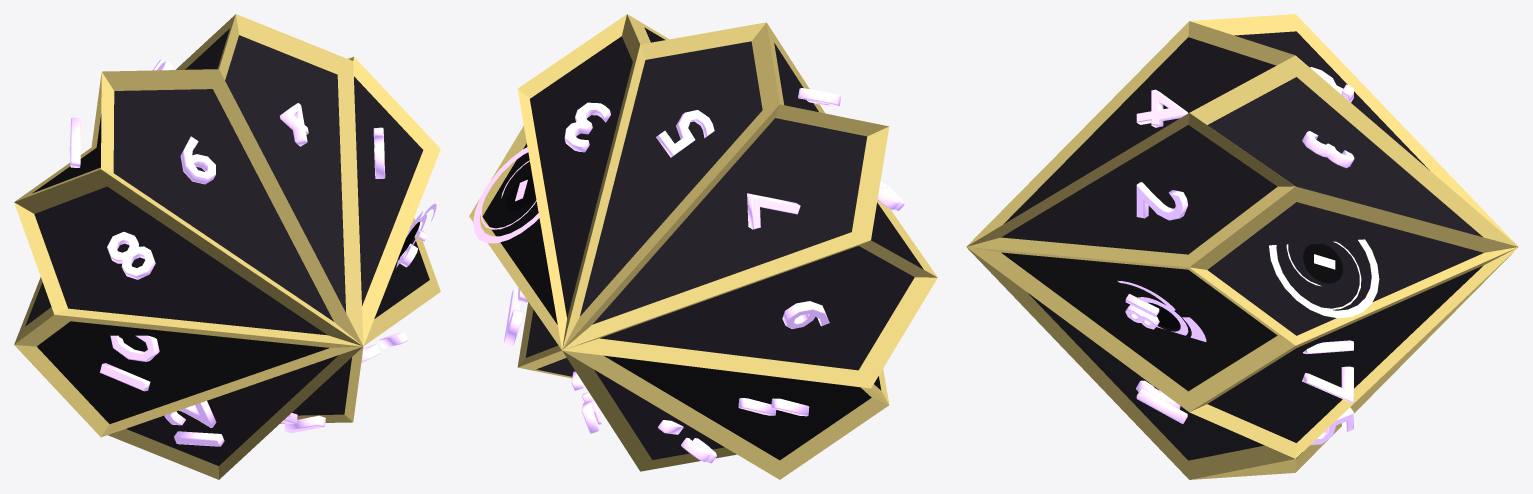
File: d18_black_hole_gold.glb
3 renders of one model, left to right at view 1: azimuth 30°, elevation 25°; view 2: azimuth 150°, elevation 25°; view 3: azimuth 270°, elevation 25°, orthographic. The views are drawn at different scales.
Parts seen in each view (by area): view 1: D18_BlackHole_Gold; view 2: D18_BlackHole_Gold; view 3: D18_BlackHole_Gold.
Part boxes in pixels (<box>): D18_BlackHole_Gold: <box>14,14,440,479</box>; D18_BlackHole_Gold: <box>469,14,937,479</box>; D18_BlackHole_Gold: <box>966,14,1518,479</box>.
Size of the model in its own units: 4.4 by 4.33 by 5.2.
